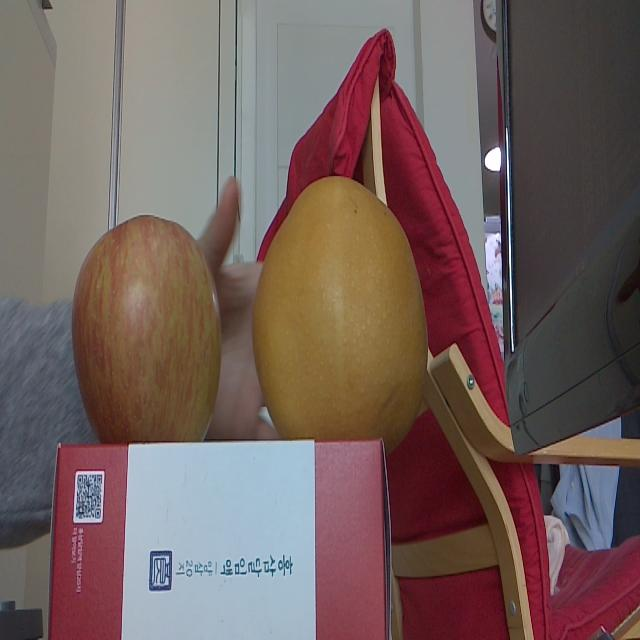apple: (73, 213, 221, 442)
pear: (252, 175, 426, 457)
